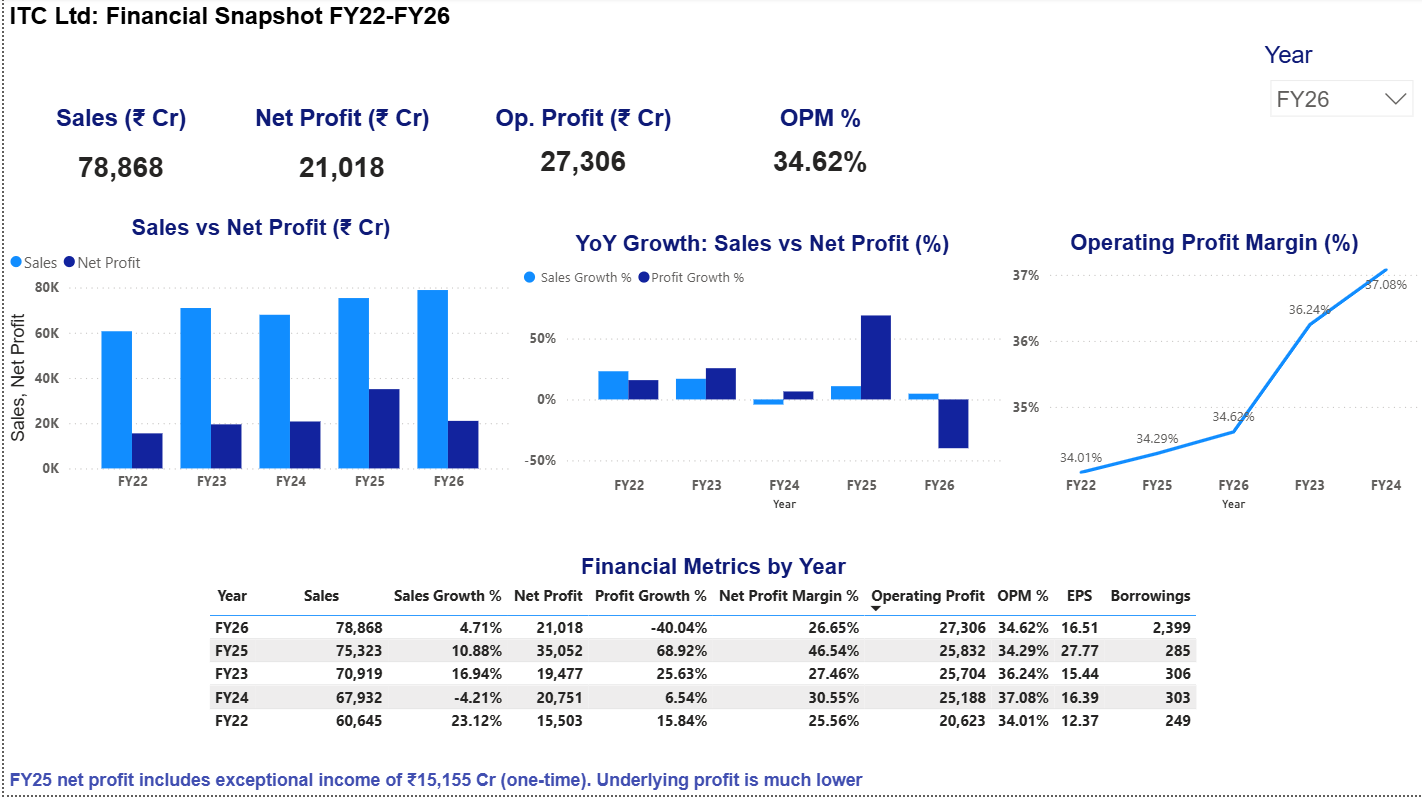

This screenshot's page, from the dashboard's own definition file:
{"tool":"powerbi","page":{"name":"Page 1","canvas":[1280,720],"ordinal":0},"visuals":[{"type":"card","title":"Sales (₹ Cr)","fields":{"Values":["Sum(Year (Sheet2).Sales)"]},"box":[6.9,97.4,197.6,89.2],"z":0},{"type":"card","title":"Net Profit (₹ Cr)","fields":{"Values":["Sum(Year (Sheet2).Net Profit)"]},"box":[204.5,97.4,201.7,89.2],"z":1000},{"type":"card","title":"Op. Profit (₹ Cr)","fields":{"Values":["Sum(Year (Sheet2).Operating Profit)"]},"box":[406.2,97.4,233.3,79.6],"z":2000},{"type":"card","title":"OPM %","fields":{"Values":["Avg(Year (Sheet2).OPM %)"]},"box":[639.5,97.4,194.4,79.5],"z":3000},{"type":"clusteredColumnChart","title":"Sales vs Net Profit (₹ Cr)","fields":{"Category":["Year (Sheet2).Year"],"Y":["Sum(Year (Sheet2).Sales)","Sum(Year (Sheet2).Net Profit)"]},"box":[0,195.7,463.5,272.7],"z":4000},{"type":"lineChart","title":"Operating Profit Margin (%)","fields":{"Category":["Year (Sheet2).Year"],"Y":["Sum(Year (Sheet2).OPM %)"]},"box":[903.4,209.7,375,259.1],"z":5000},{"type":"clusteredColumnChart","title":"YoY Growth: Sales vs Net Profit (%)","fields":{"Category":["Year (Sheet2).Year"],"Y":["Sum(Year (Sheet2).Sales Growth %)","Sum(Year (Sheet2).Profit Growth %)"]},"box":[463.5,210.3,441.4,258],"z":6000},{"type":"tableEx","title":"Financial Metrics by Year","fields":{"Values":["Year (Sheet2).Year","Year (Sheet2).Sales","Year (Sheet2).Sales Growth %","Year (Sheet2).Net Profit","Year (Sheet2).Profit Growth %","Year (Sheet2).Net Profit Margin %","Year (Sheet2).Operating Profit","Year (Sheet2).OPM %","Year (Sheet2).EPS","Year (Sheet2).Borrowings"]},"box":[179.4,501.1,921,180.8],"z":7000},{"type":"slicer","title":"Year","fields":{"Values":["Year (Sheet2).Year"]},"box":[1131.1,40.4,149.2,155.3],"z":8000},{"type":"textbox","box":[0,692.1,920.8,28.1],"z":9000},{"type":"textbox","box":[0,0,438.5,40.1],"z":10000}]}

Visuals, with their boxes in screenshot pixels (x1, y1, x2, y2), scaled from the page's 1280x720 canvas onto the 1422x797 screenshot:
"Sales (₹ Cr)" card: 8:108:227:207
"Net Profit (₹ Cr)" card: 227:108:451:207
"Op. Profit (₹ Cr)" card: 451:108:710:196
"OPM %" card: 710:108:926:196
"Sales vs Net Profit (₹ Cr)" clusteredColumnChart: 0:217:515:518
"Operating Profit Margin (%)" lineChart: 1004:232:1420:519
"YoY Growth: Sales vs Net Profit (%)" clusteredColumnChart: 515:233:1005:518
"Financial Metrics by Year" tableEx: 199:555:1222:755
"Year" slicer: 1257:45:1421:217
textbox: 0:766:1023:796
textbox: 0:0:487:44
